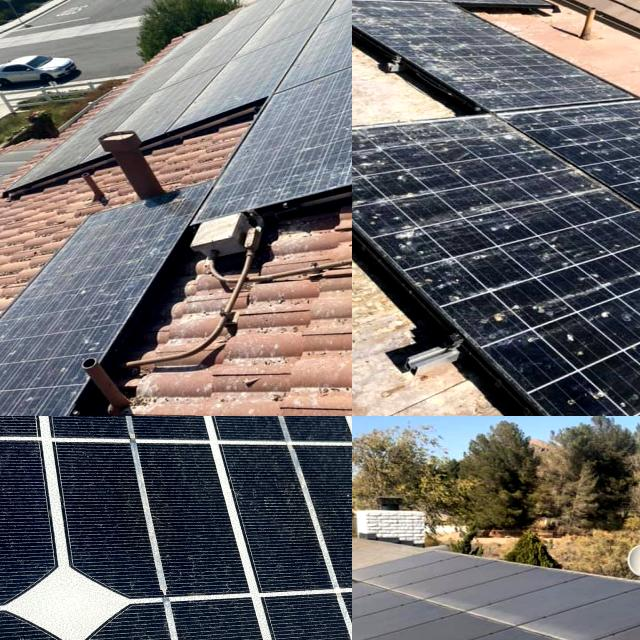bird: (478, 195, 622, 299), (354, 7, 539, 80), (447, 133, 618, 181), (352, 128, 420, 239), (537, 312, 640, 383)
crack: (0, 416, 352, 640)
dust: (235, 81, 352, 196), (45, 205, 176, 302), (0, 315, 117, 408), (174, 20, 264, 111), (488, 589, 640, 640), (352, 579, 501, 609), (352, 602, 455, 640), (353, 609, 461, 640), (303, 0, 352, 65), (99, 95, 153, 137)
